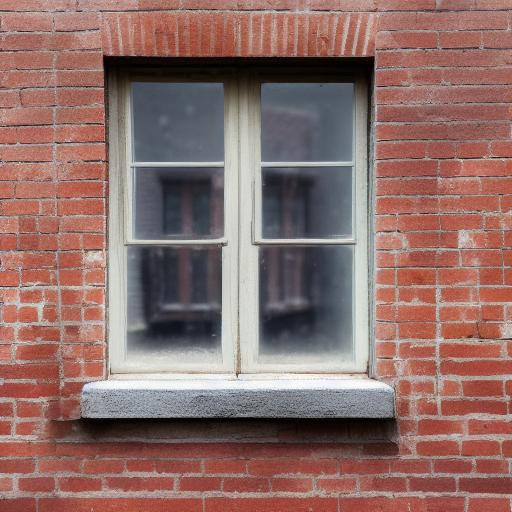Window: (81, 9, 398, 426)
